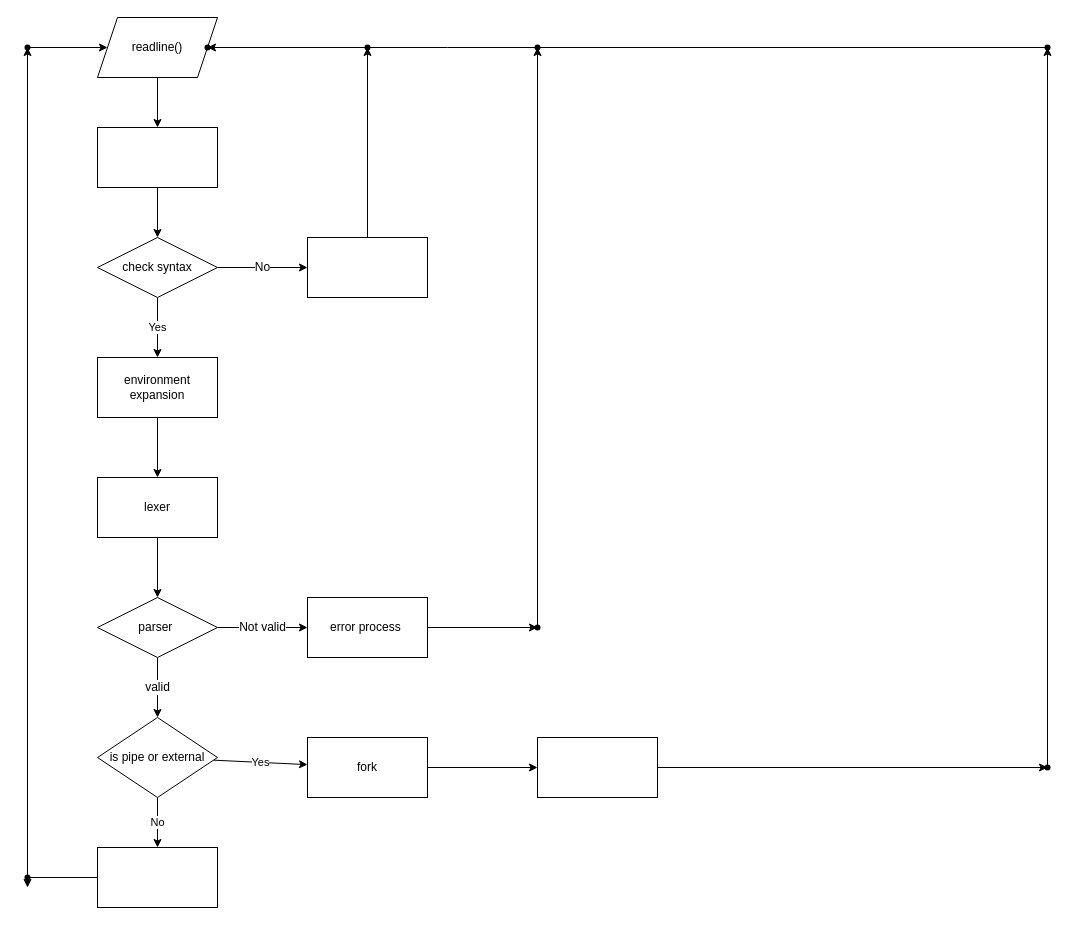
Image size: 1075x925. Some labels were removed from this diagram. Here are the shapes that lost their labels. From the top down, the centre of each, then its label:
pixel 157 157: toknizer
pixel 367 267: syntax error code : 2
pixel 597 767: extenal process
pixel 157 877: builtin process
